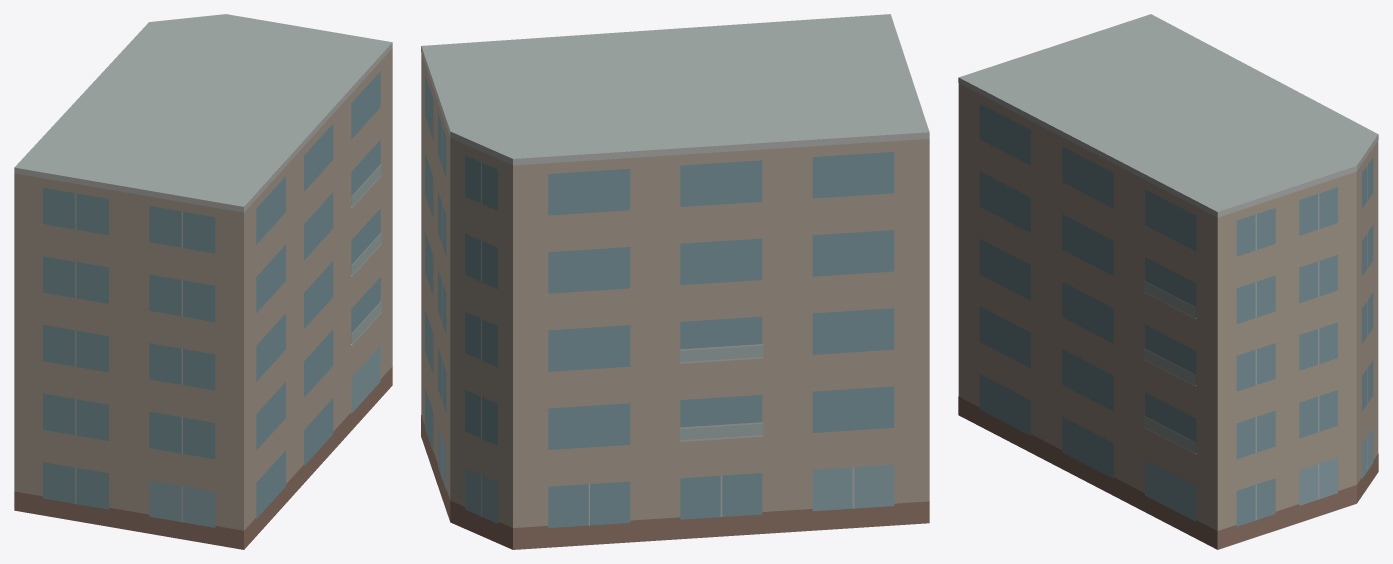
File: survey-upis-32960348.glb
The picture shows the model from 3 angles, left to right: view 1: azimuth 30°, elevation 25°; view 2: azimuth 150°, elevation 25°; view 3: azimuth 270°, elevation 25°; orthographic projection. The views are drawn at different scales.
Parts seen in each view (by area): view 1: survey-upis-32960348.tmp; view 2: survey-upis-32960348.tmp; view 3: survey-upis-32960348.tmp.
Part boxes in pixels (box(x1,y1,x2,y2)): survey-upis-32960348.tmp: box(14, 14, 392, 549); survey-upis-32960348.tmp: box(421, 14, 929, 549); survey-upis-32960348.tmp: box(958, 14, 1378, 549).
Size of the model in its own units: 18.37 by 14.6 by 16.46.
